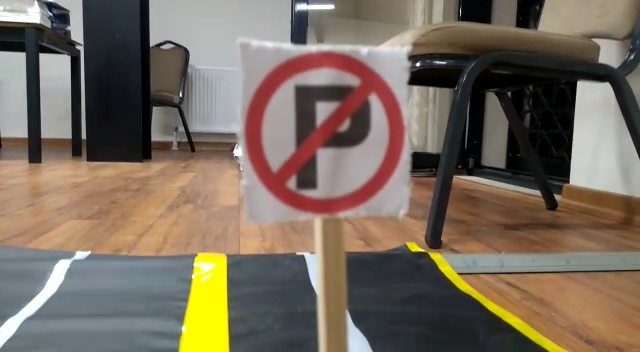park_yapilmaz: (237, 39, 404, 215)
